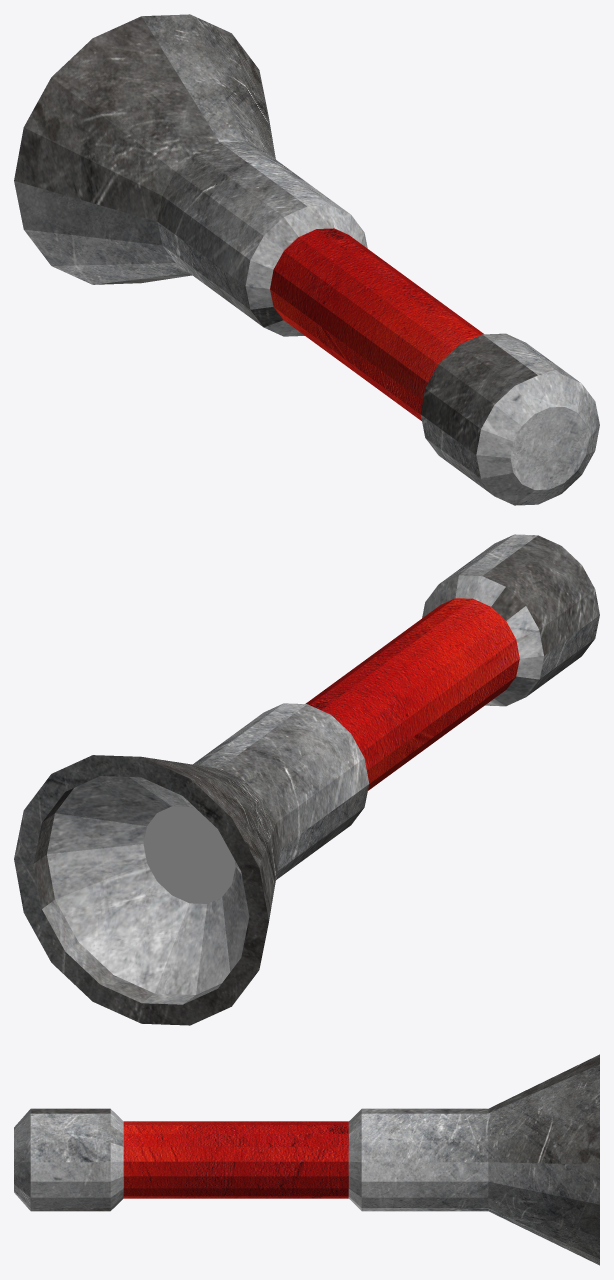
File: Flashlight.fbx
3 renders of one model, top to bottom at view 1: azimuth 30°, elevation 25°; view 2: azimuth 150°, elevation 25°; view 3: azimuth 270°, elevation 25°, orthographic. The views are drawn at different scales.
Visible parts, largest first — view 1: Cylinder; view 2: Cylinder; view 3: Cylinder.
Boxes of the visible parts, box(x1,y1,x2,y2) form: Cylinder: box(14, 14, 599, 505); Cylinder: box(14, 534, 599, 1025); Cylinder: box(14, 1054, 599, 1265).
Bounding box in the file's own units: 7.43 × 7.43 × 20.58.
Materials: 2 (1 with a texture image).
